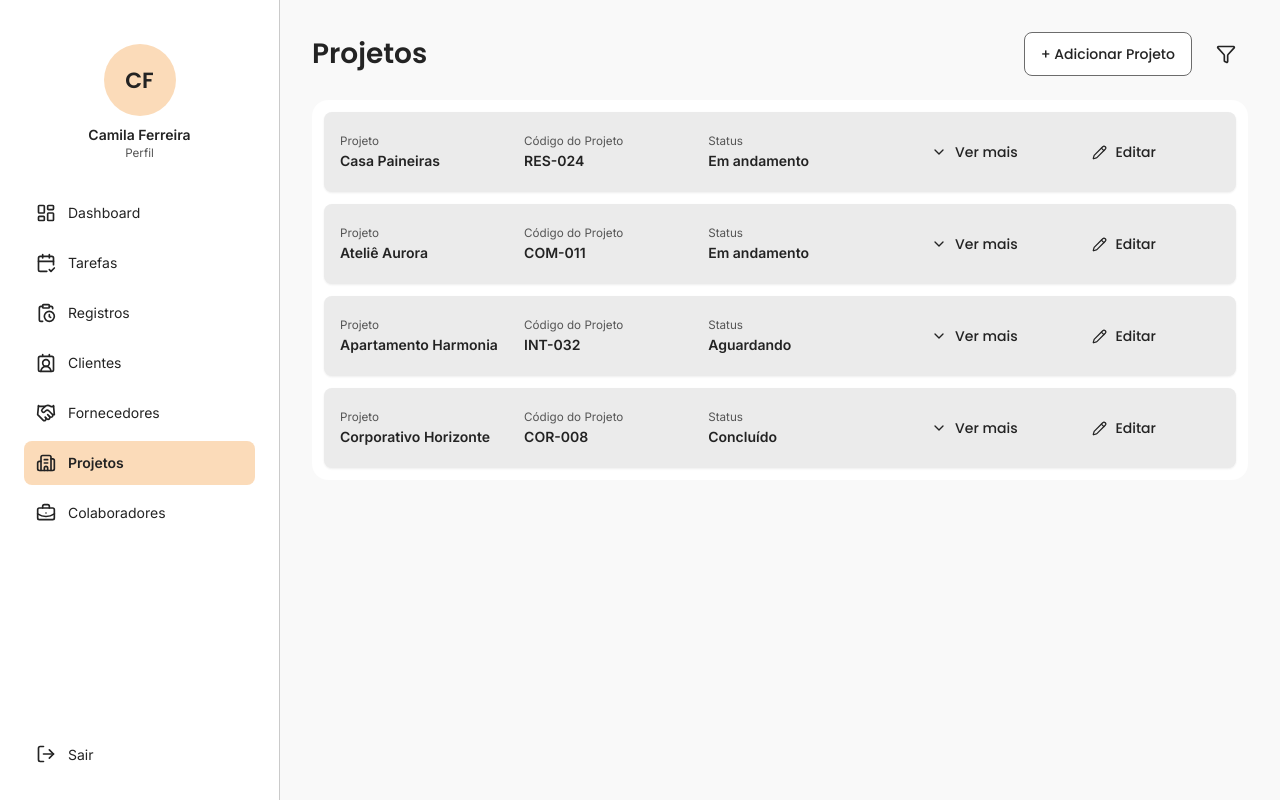
Listas › Projetos: filtra concluídos; cliente só na visão expandida
Click the button named "filtrar": (1226, 54) [1204,32,1248,76]
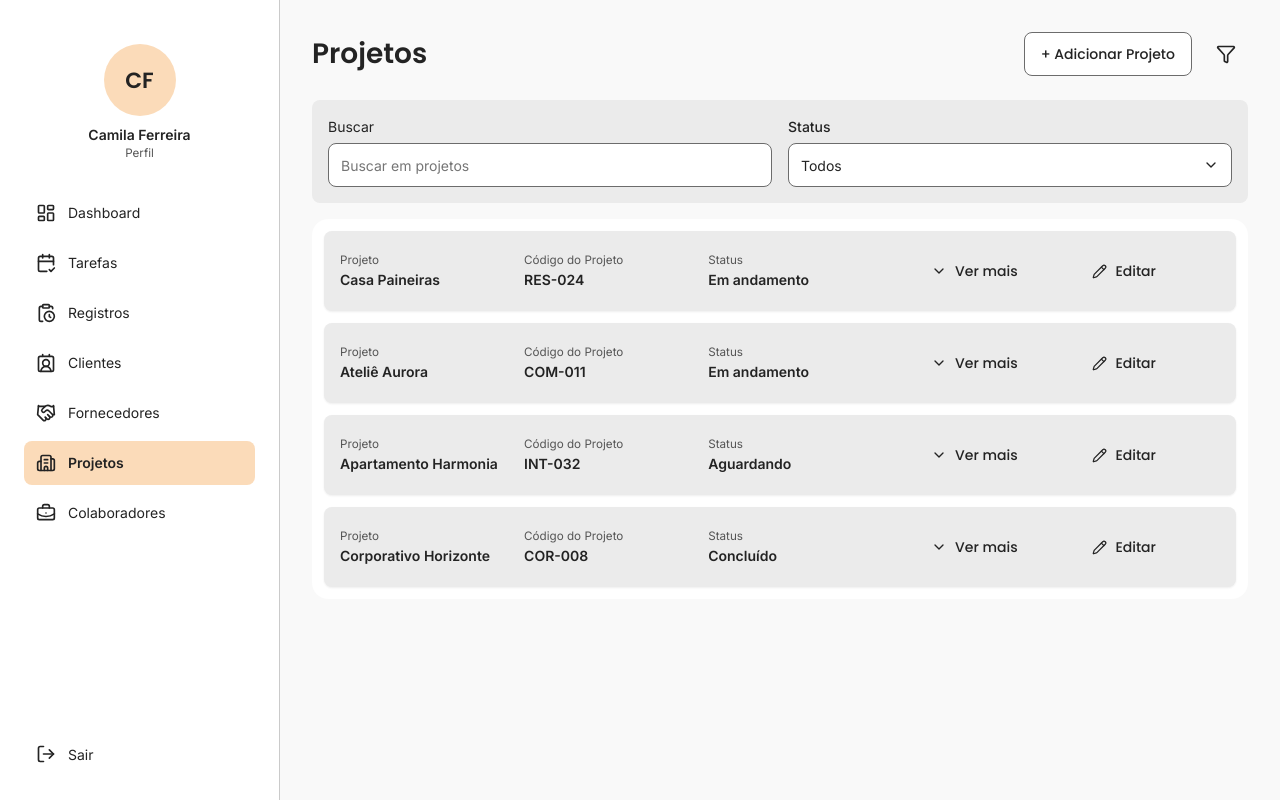
Click the button "Todos": (821, 165) [788,143,1232,187]
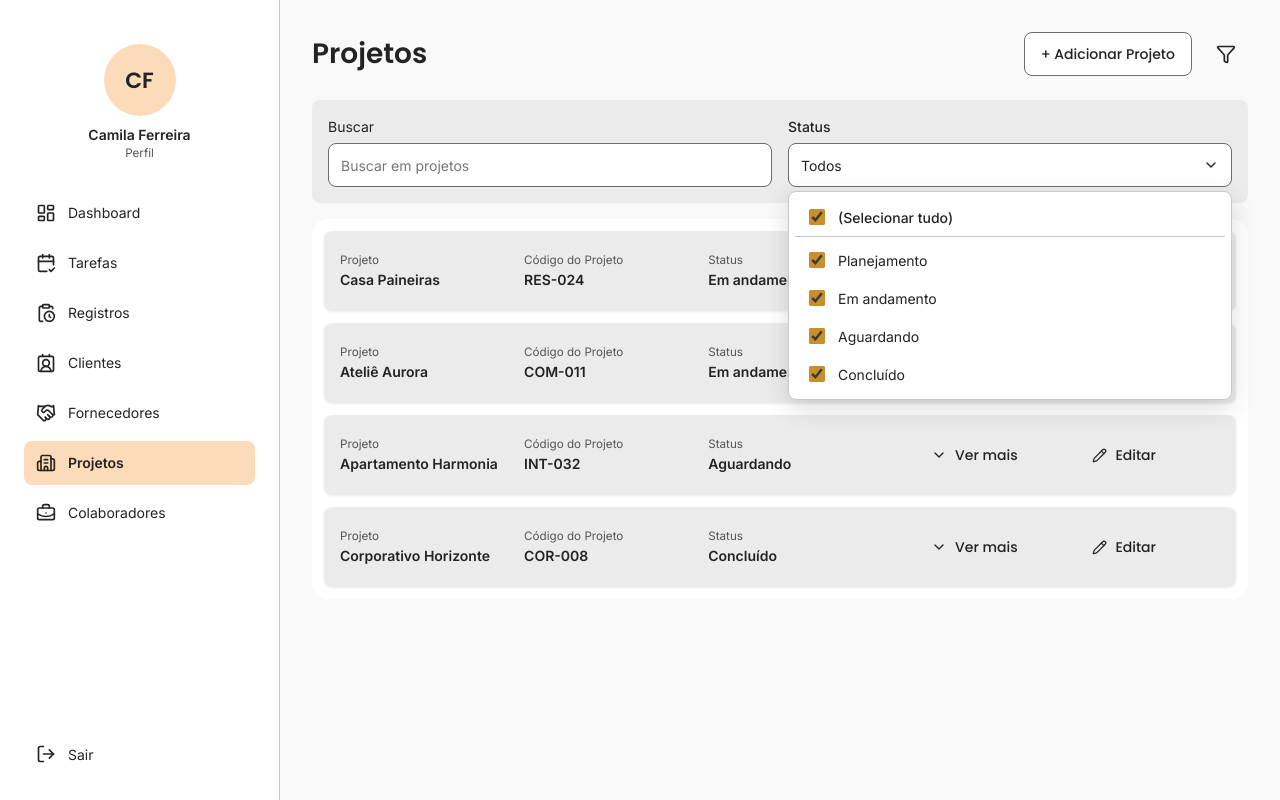
Click the checkbox labelled "(Selecionar tudo)": (817, 217) [809,209,825,225]
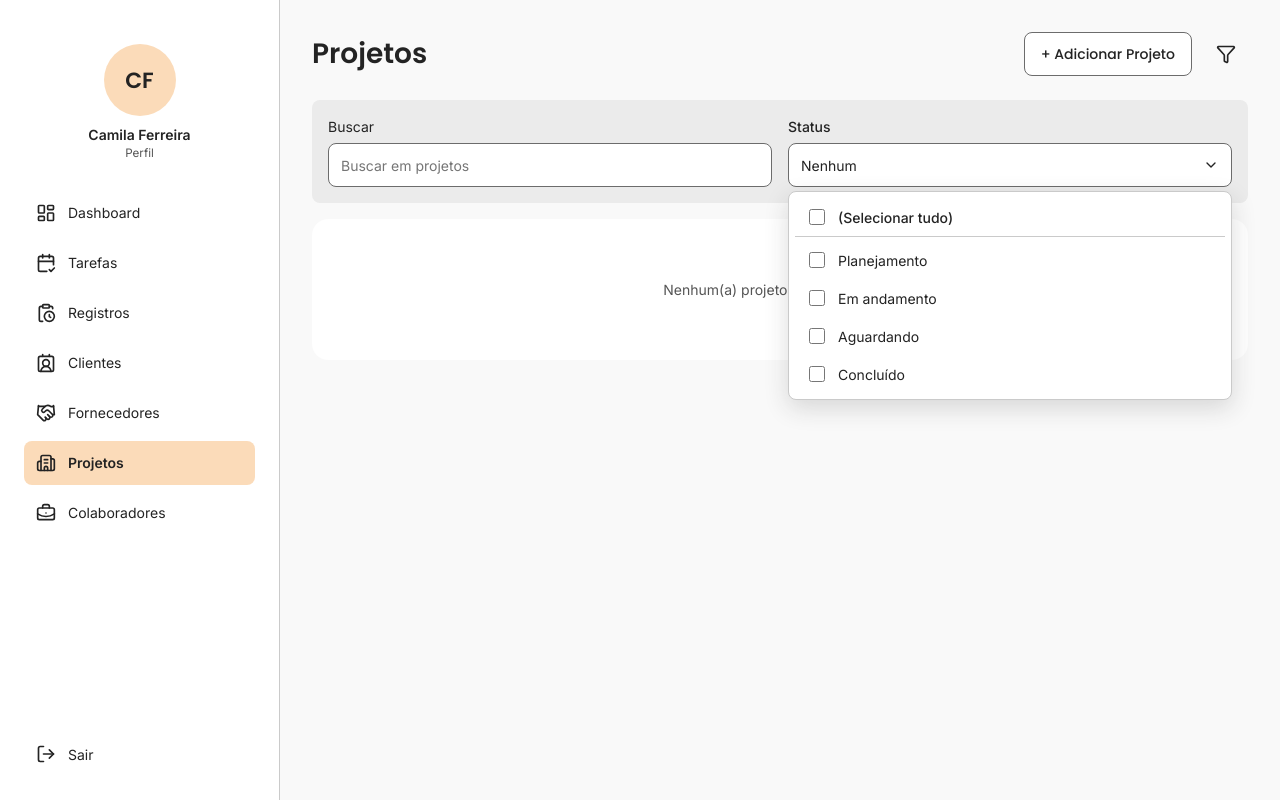
Click the checkbox labelled "Concluído": (817, 374) [809,366,825,382]
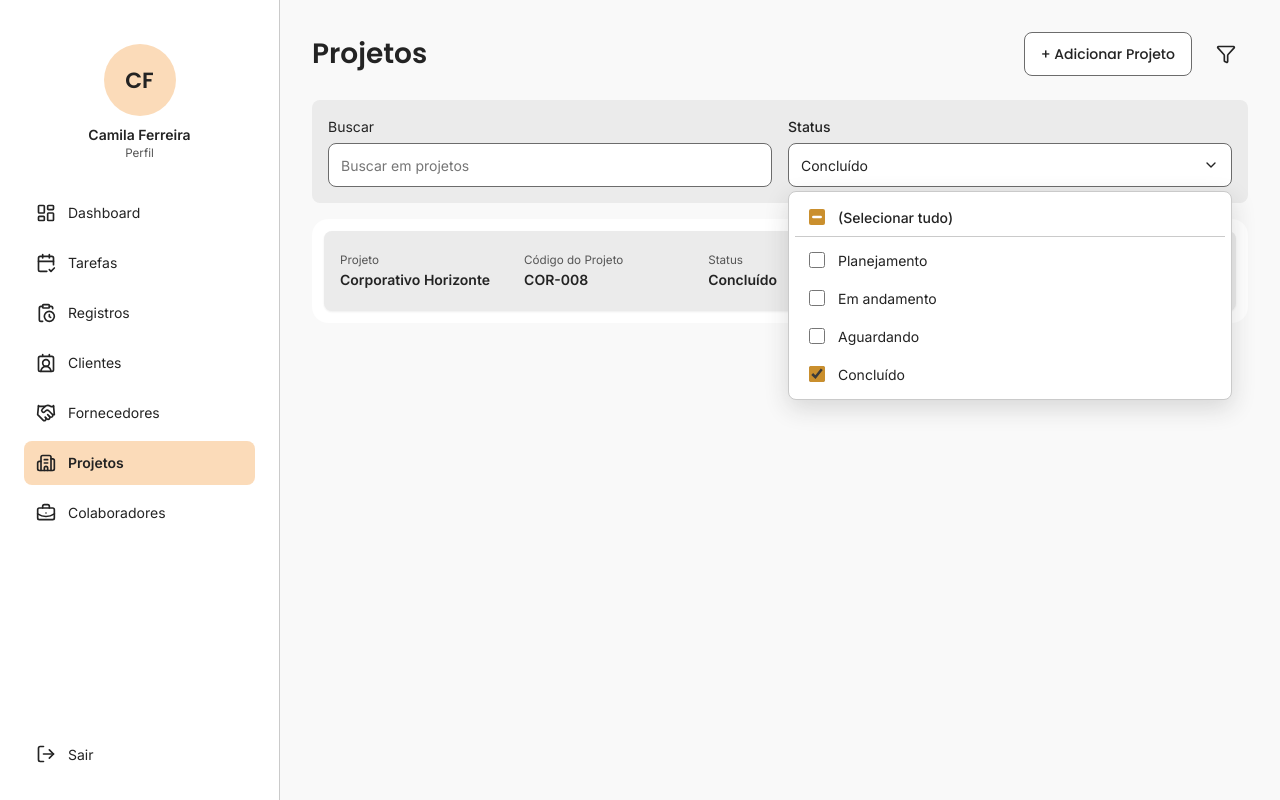
Press the mouse on the element that starts with "Camila Ferreira": (640, 400) [0,0,1279,799]
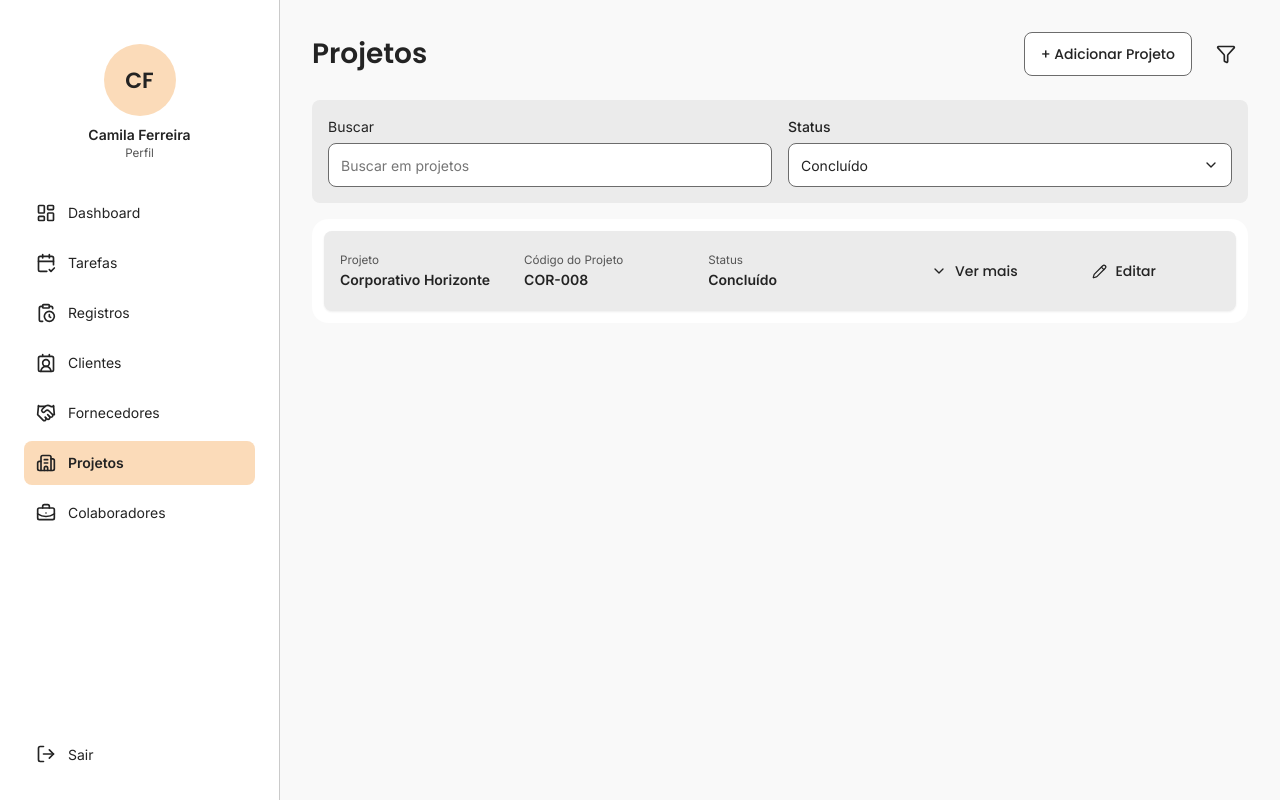
Expected: the text "Casa Paineiras" is not shown
Expected: the text "Corporativo Horizonte" is shown, [340,269,504,290]
Click the button "Ver mais": (974, 271) [892,249,1056,293]
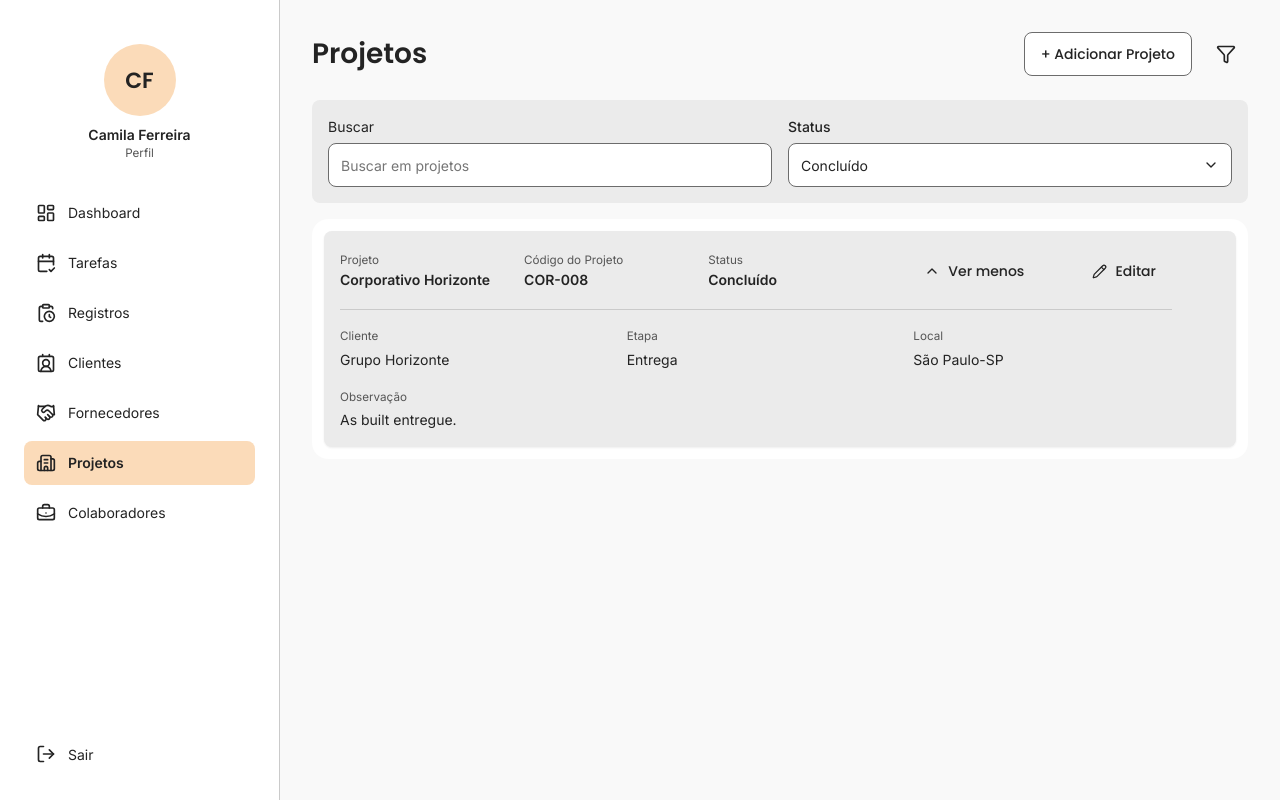
Expected: the text "Cliente" is shown, [340,329,378,343]
